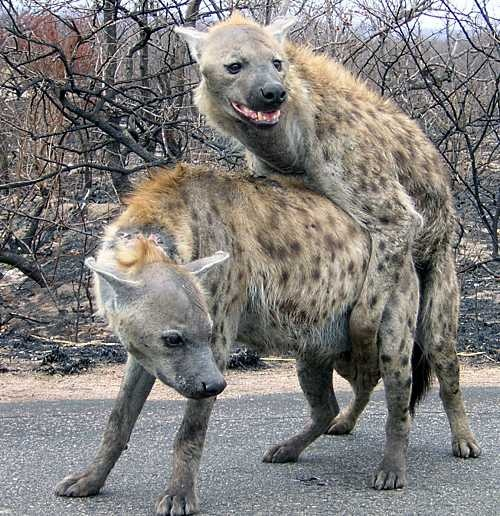hyna: (170, 9, 490, 461), (51, 160, 423, 516)
